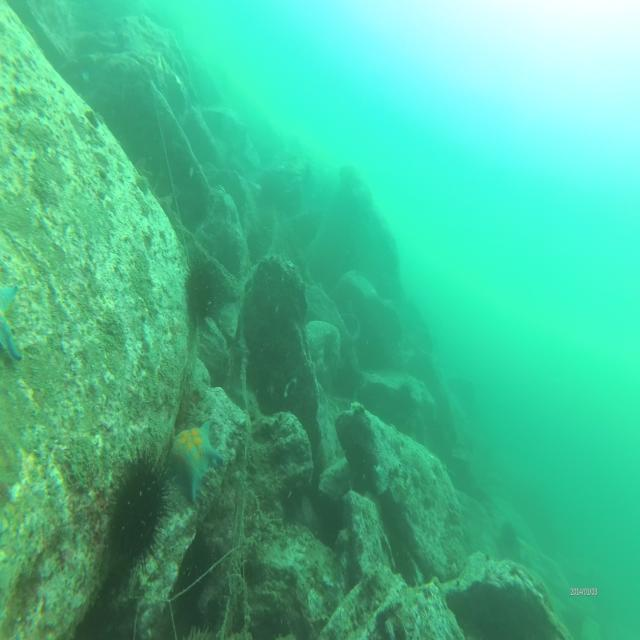echinus: (111, 449, 168, 567), (186, 260, 218, 327)
starfish: (171, 421, 223, 503), (0, 274, 25, 375)
